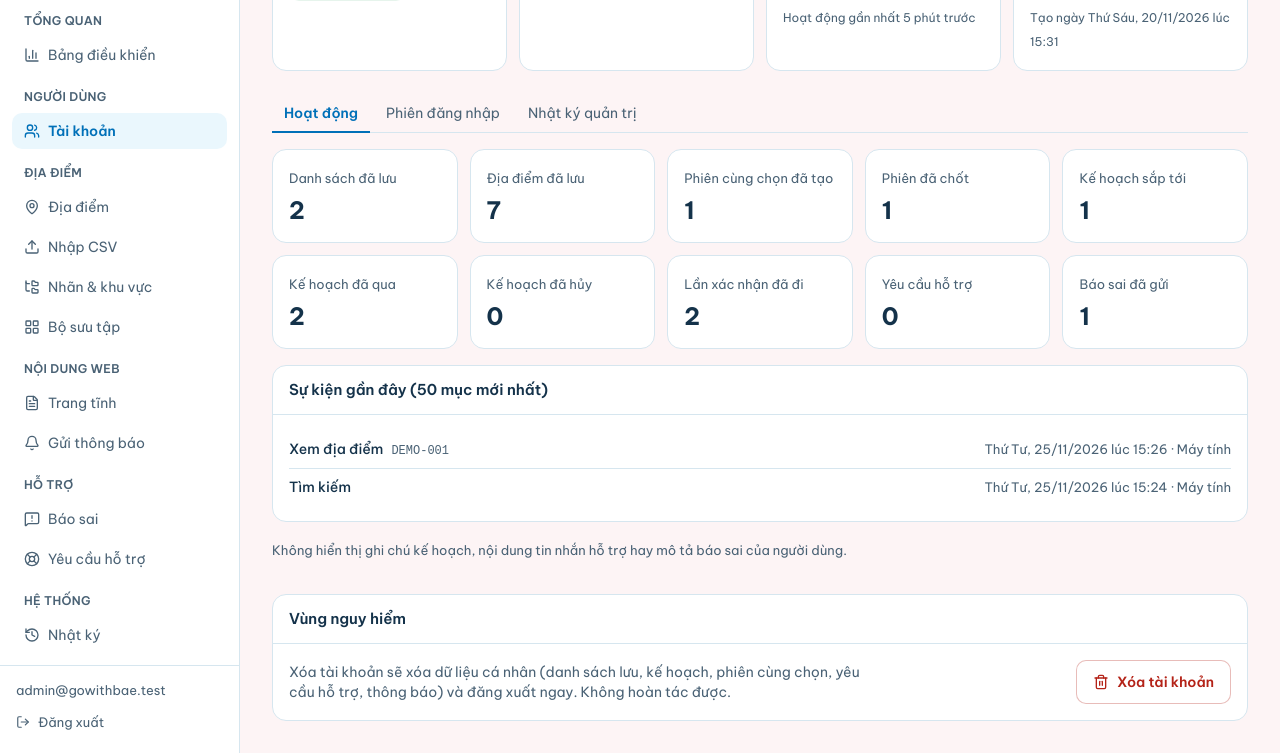
Test: Xóa tài khoản đang hoạt động › có ở Vùng nguy hiểm cuối trang và xóa được
The width and height of the screenshot is (1280, 753).
(page scrolled)
Click the button "Xóa tài khoản": (1154, 682) [1076, 660, 1231, 704]
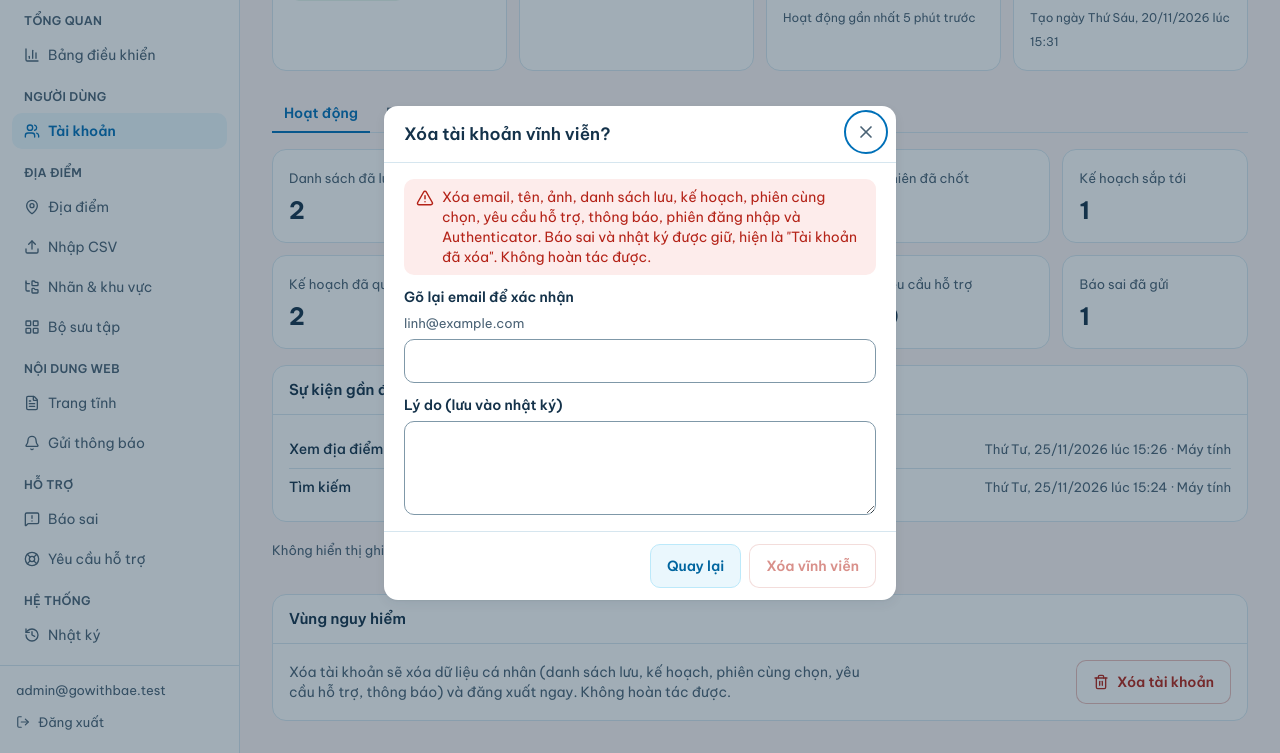
In the field labelled "Gõ lại email để xác nhận": (640, 361) [404, 339, 876, 383], type "linh@example.com"
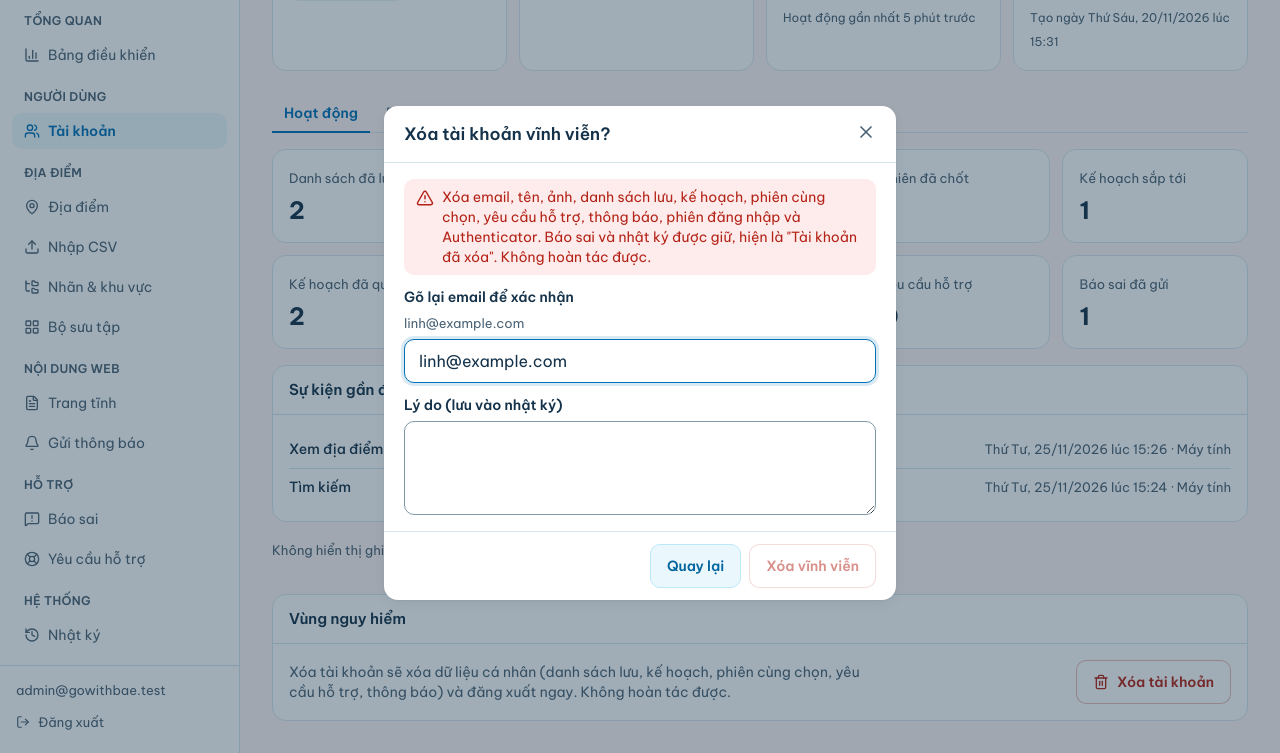
In the text box labelled "Lý do (lưu vào nhật ký)": (640, 468) [404, 421, 876, 515], type "Tài khoản rác"
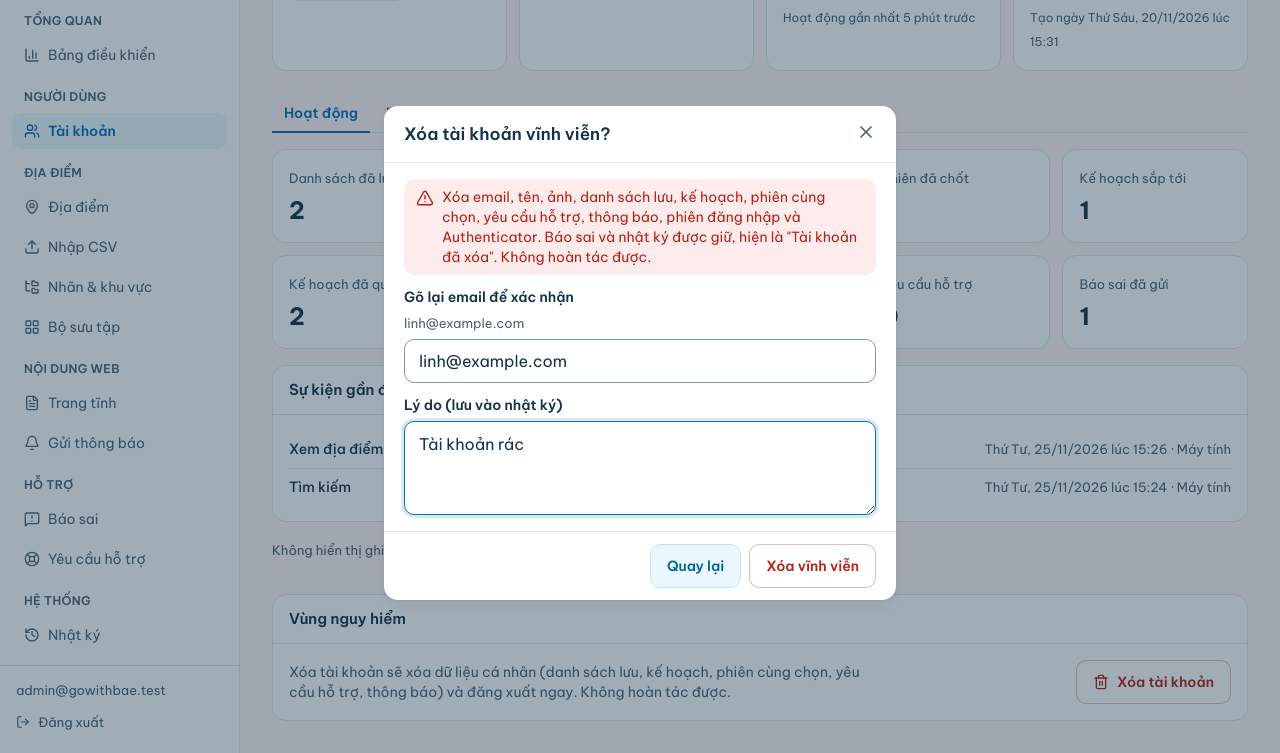
Click the button "Xóa vĩnh viễn": (813, 566) [749, 544, 876, 588]
(page scrolled)
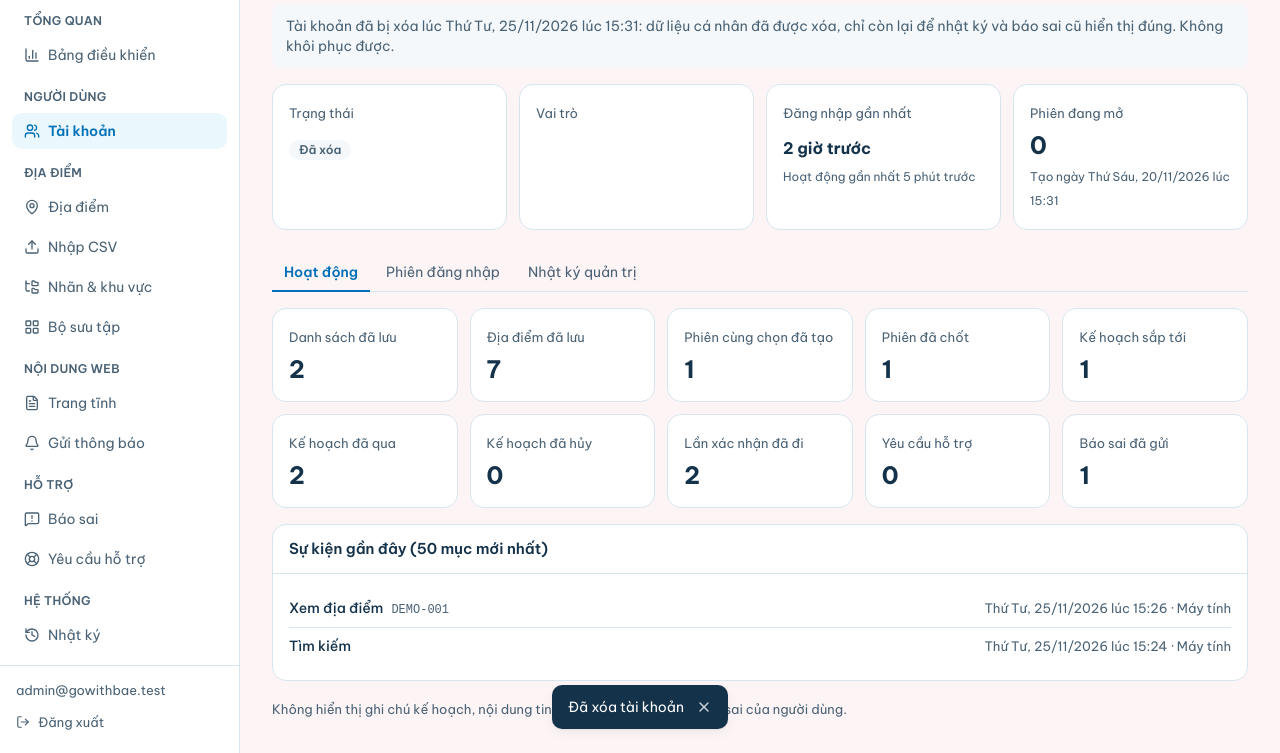
Result: the text "Đã xóa tài khoản" is shown at [568, 697, 684, 717]
